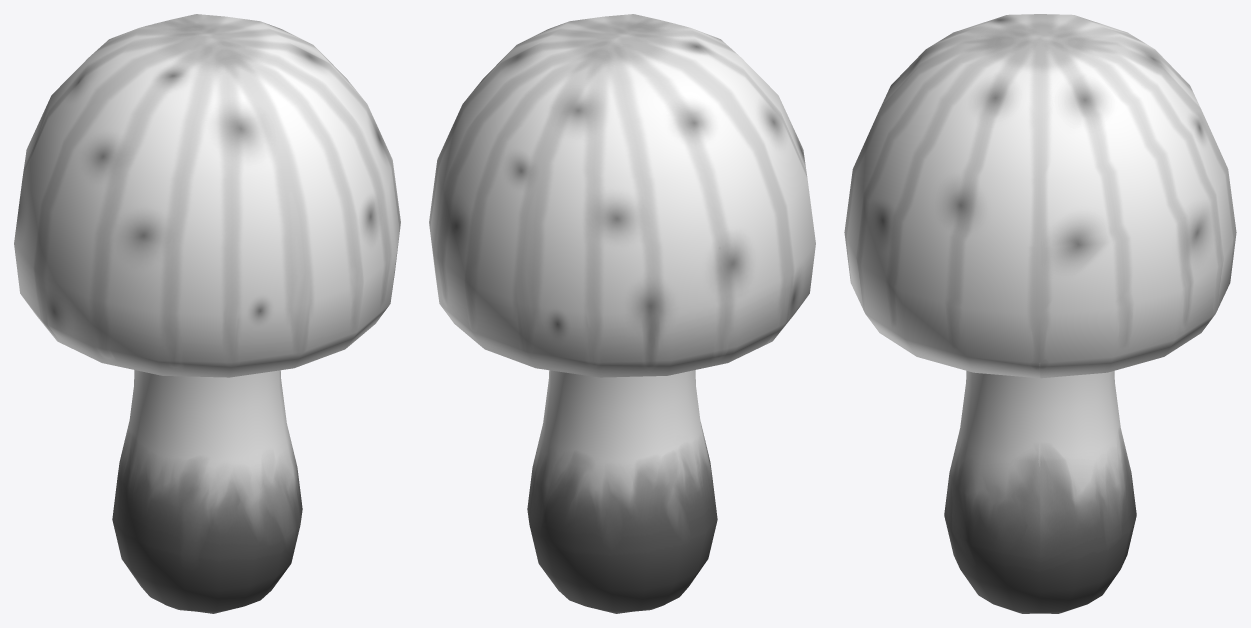
Rendered from Mushroom_Small.fbx.
3 views of the same model, side by side, from view 1: azimuth 30°, elevation 25°; view 2: azimuth 150°, elevation 25°; view 3: azimuth 270°, elevation 25° (orthographic).
Visible parts, largest first — view 1: Cube.003; view 2: Cube.003; view 3: Cube.003.
Boxes of the visible parts, x1=… form: Cube.003: x1=14, y1=14, x2=400, y2=613; Cube.003: x1=429, y1=14, x2=815, y2=613; Cube.003: x1=844, y1=14, x2=1236, y2=613.
Size of the model in its own units: 302 by 479 by 302.
